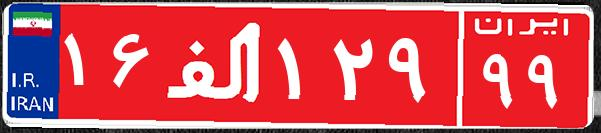1: (273, 28, 330, 110), (57, 26, 110, 107)
2: (330, 28, 385, 110)
6: (110, 28, 158, 105)
9: (385, 28, 445, 110), (475, 38, 525, 113), (525, 38, 570, 115)
الف: (158, 15, 273, 115)
